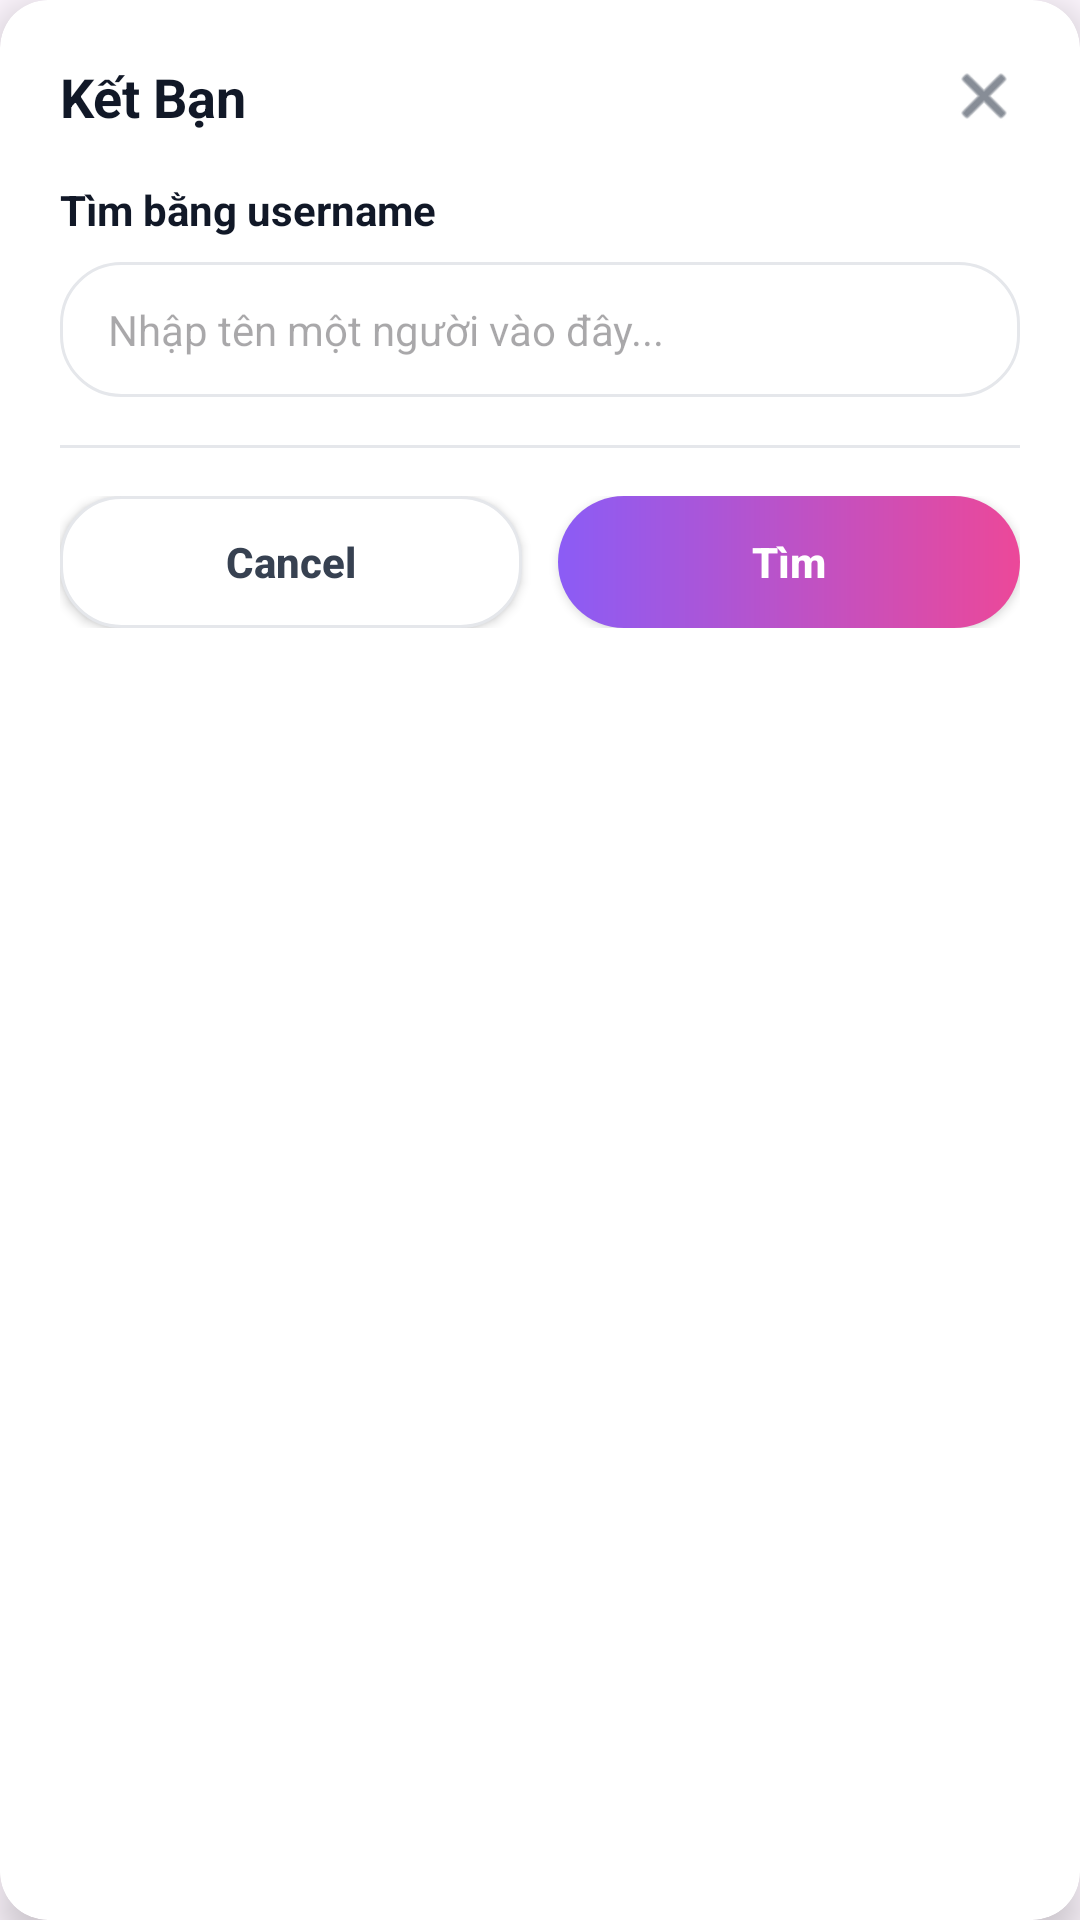

Named icons in this screenshot (1080px x 1920px) and their bounding boxes, (x1, y1, x2, y2):
close clear cancel: (962, 74, 1006, 119)
